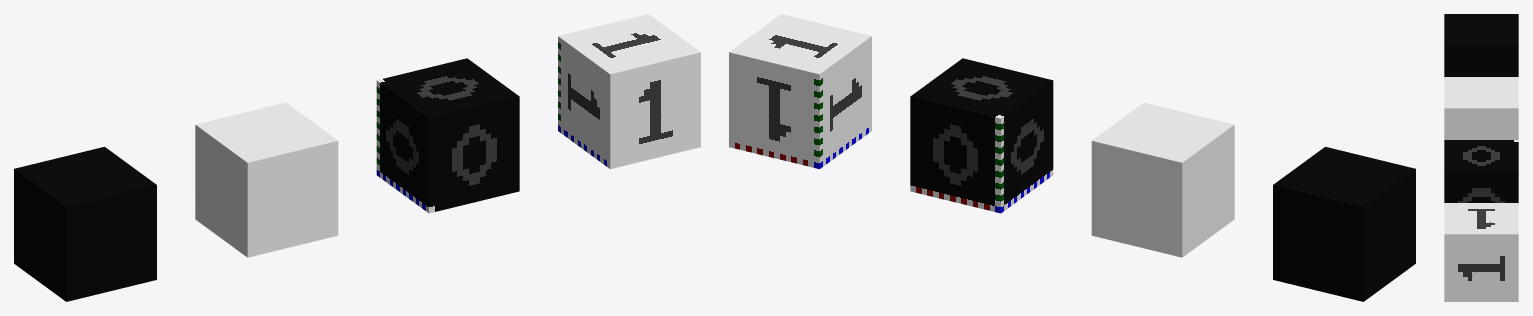
File: export_block_defs.gltf
The picture shows the model from 3 angles, left to right: view 1: azimuth 30°, elevation 25°; view 2: azimuth 150°, elevation 25°; view 3: azimuth 270°, elevation 25°; orthographic projection. The views are drawn at different scales.
Parts seen in each view (by area): view 1: 'block1', 'block2', 'block0', 'block3'; view 2: 'block1', 'block2', 'block0', 'block3'; view 3: 'block3', 'block0', 'block1', 'block2'.
Boxes of the visible parts, x1,y1,x2,y2 form: 'block1': (195,102,338,257); 'block2': (376,58,519,213); 'block0': (14,146,156,301); 'block3': (558,14,700,169); 'block1': (1091,102,1234,257); 'block2': (910,58,1053,213); 'block0': (1273,146,1415,301); 'block3': (729,14,871,169); 'block3': (1444,203,1518,301); 'block0': (1444,14,1518,76); 'block1': (1444,77,1518,139); 'block2': (1444,140,1518,202).
Size of the model in its own units: 7 by 1 by 1.
Materials: 2 (1 with a texture image).
